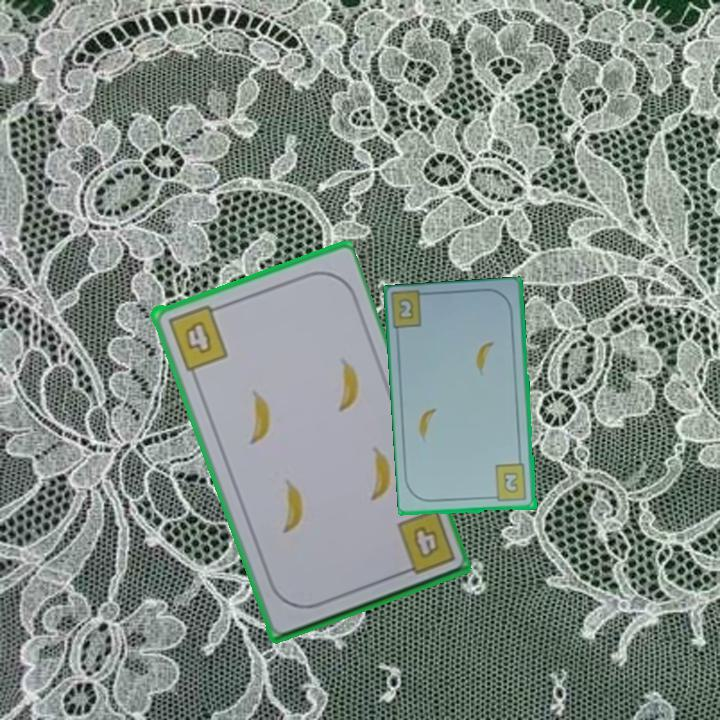2b: (488, 461, 530, 504), (395, 295, 417, 323)
4b: (163, 301, 230, 373), (409, 522, 442, 562)
